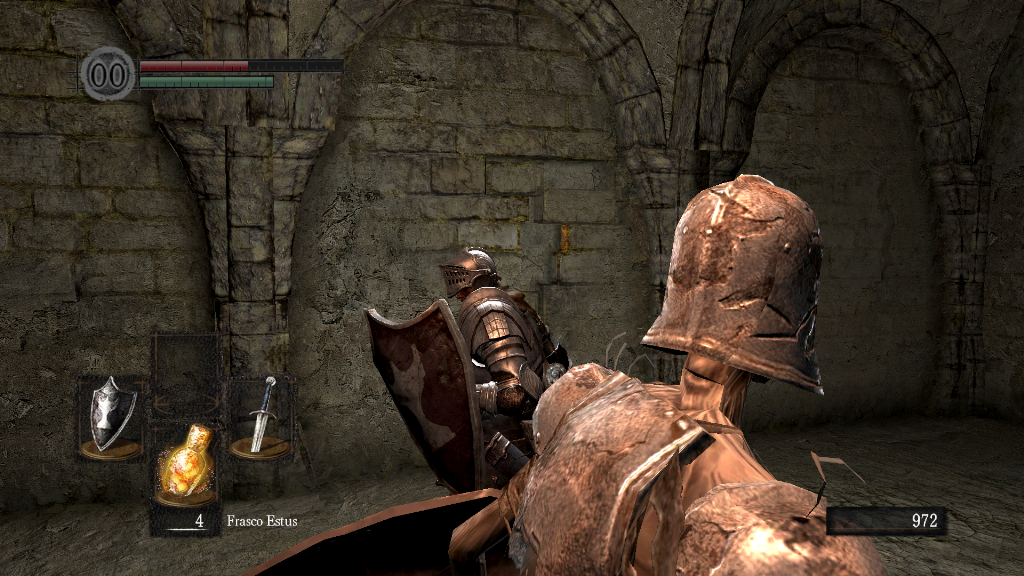health: (138, 58, 343, 71)
humanity: (80, 45, 136, 102)
player: (361, 243, 579, 494)
souls: (825, 506, 945, 536)
stamina: (138, 74, 274, 88)
undeadSoldier: (579, 173, 861, 576)
